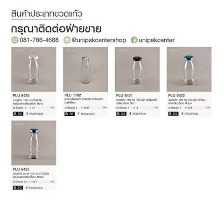bottle: (23, 52, 40, 87), (25, 126, 40, 161), (77, 53, 93, 85), (181, 53, 196, 87), (130, 54, 143, 86)
